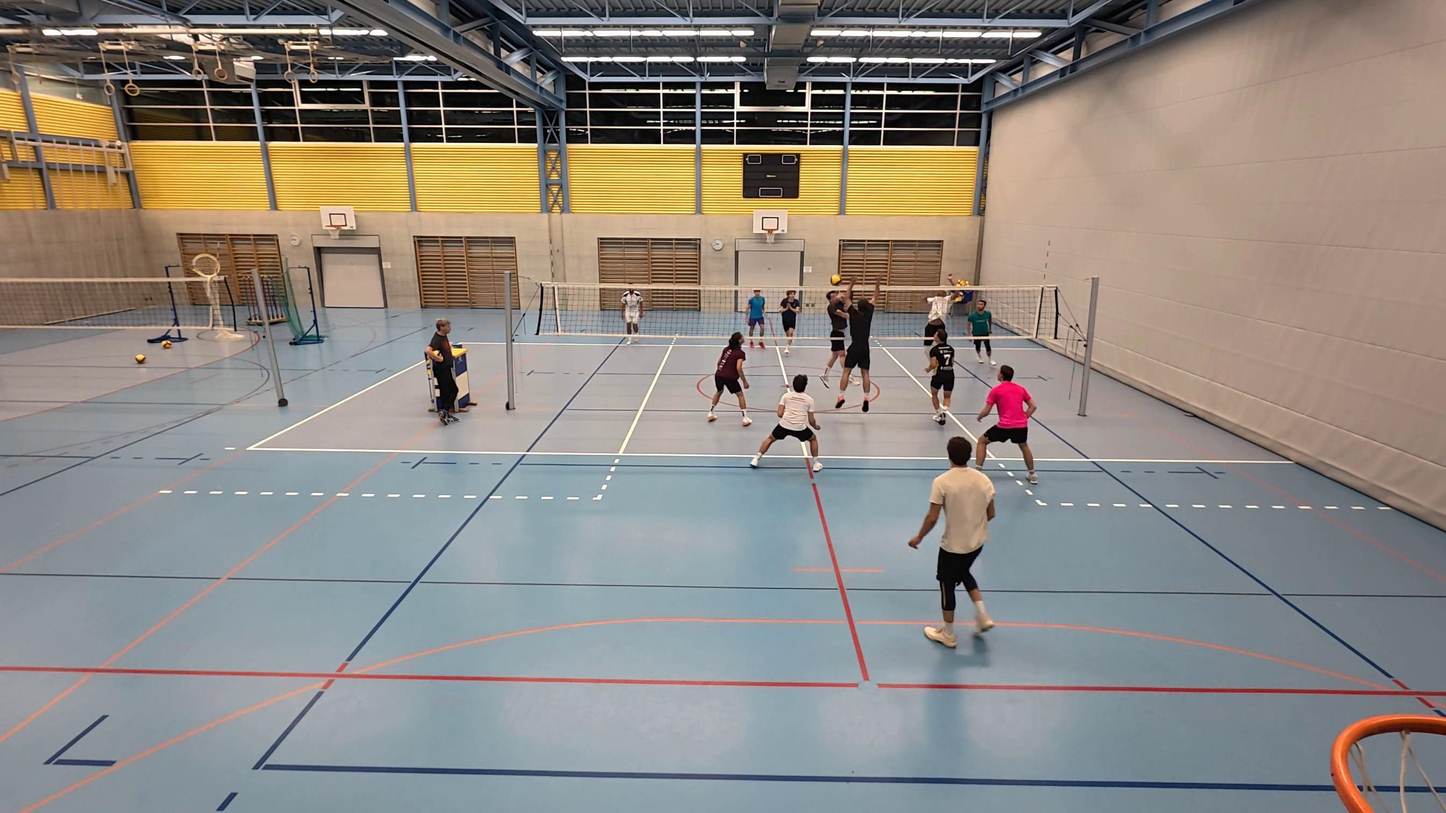attacco: (818, 282, 853, 389)
muro: (835, 279, 881, 413)
